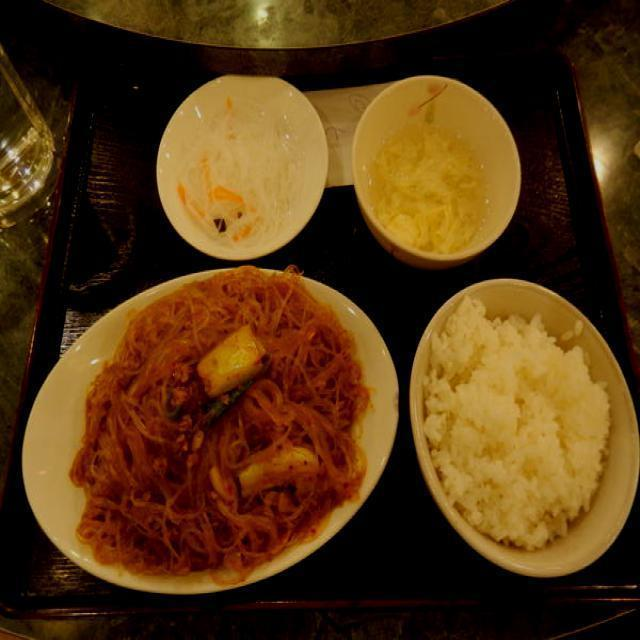Rice: (408, 274, 638, 576)
